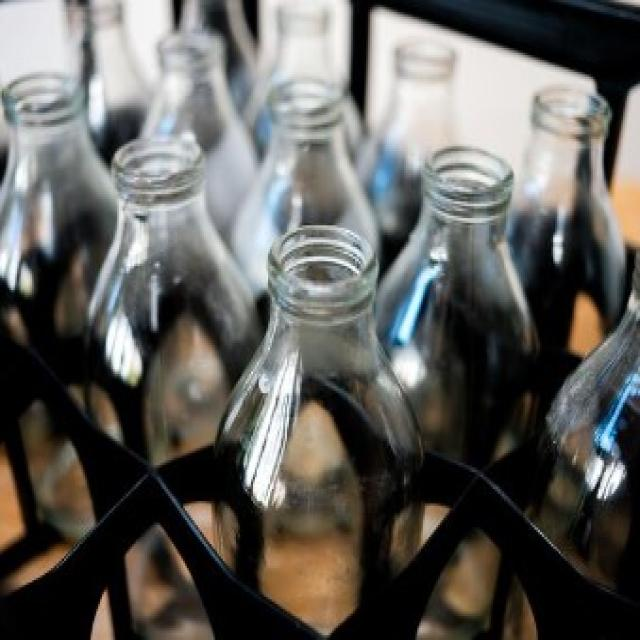electronic: (7, 5, 640, 638)
